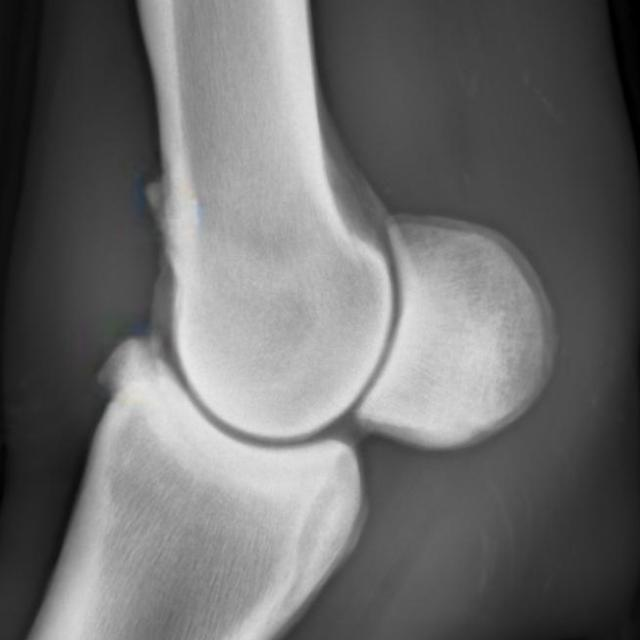bone remodeling: (60, 273, 216, 478), (111, 133, 225, 273)
